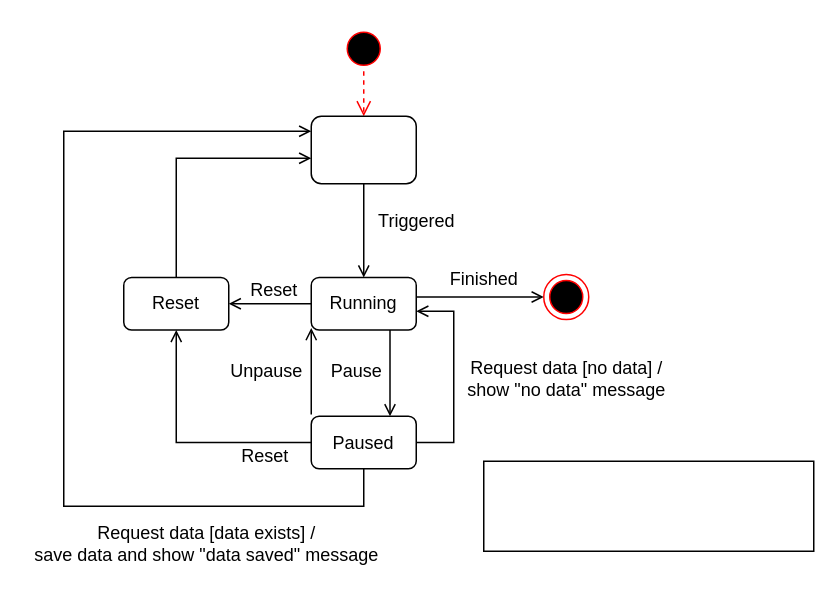
The diagram is 840 pixels wide and 593 high, and some of its shapes have lost their labels. Each missing label, with the box of its shape:
Assumptions: - After a reset, the simulator needs to be triggered again: (482, 460, 814, 551)
Waiting for trigger: (310, 115, 416, 184)
